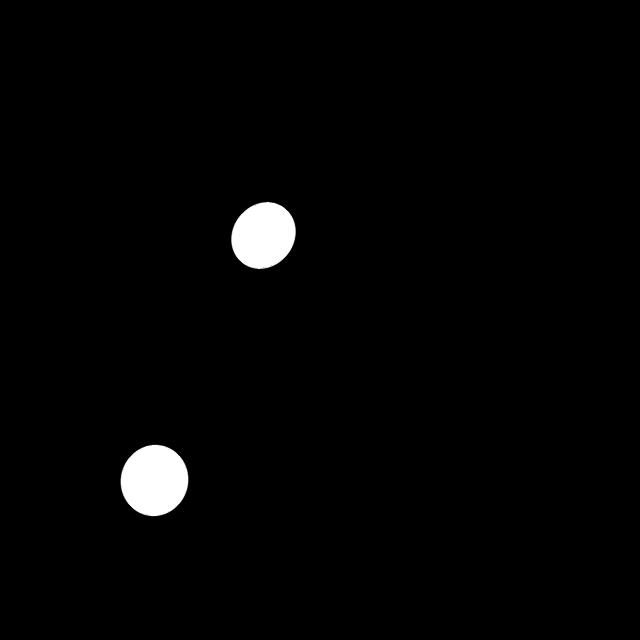Circle: (110, 436, 198, 524), (225, 193, 306, 277)
